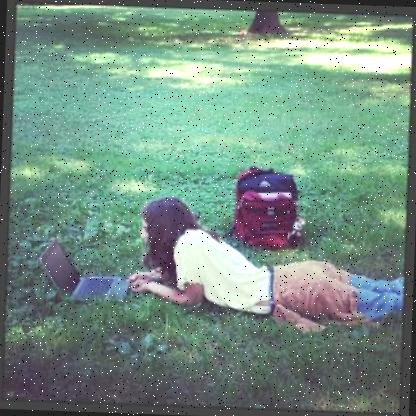bag: (224, 162, 314, 256)
person: (127, 189, 416, 334)
